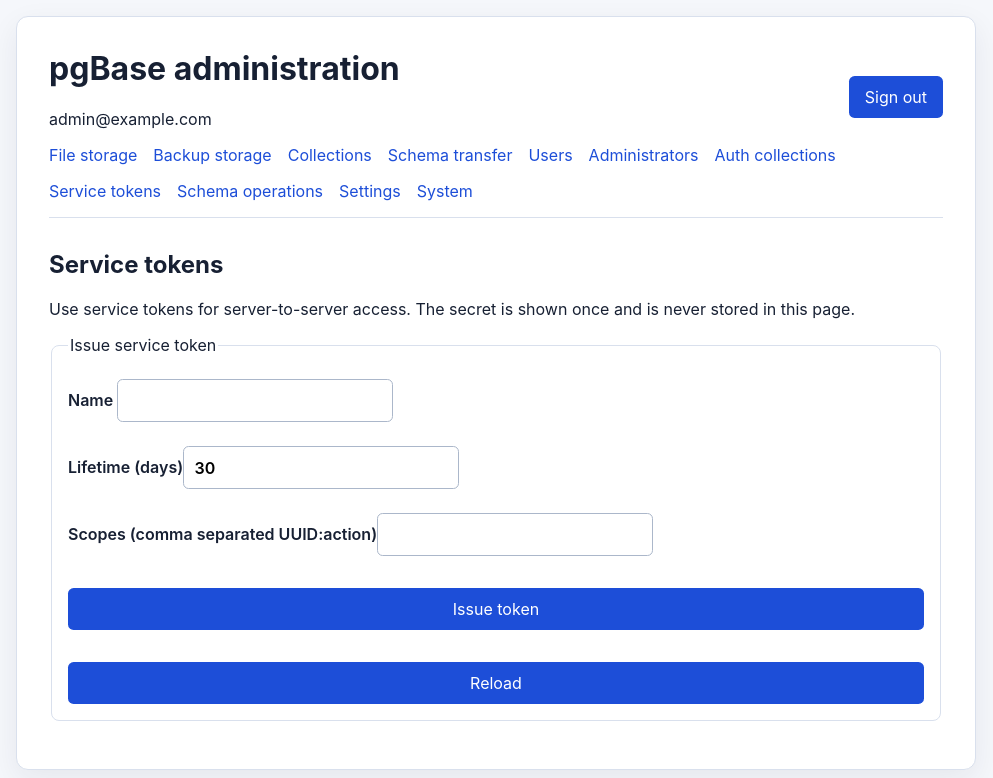
Test case: service tokens page › keeps the form usable after an invalid scope
The image size is (993, 778).
Type "exporter" into the field labelled "Name" at [255, 401], box [117,379,393,422]
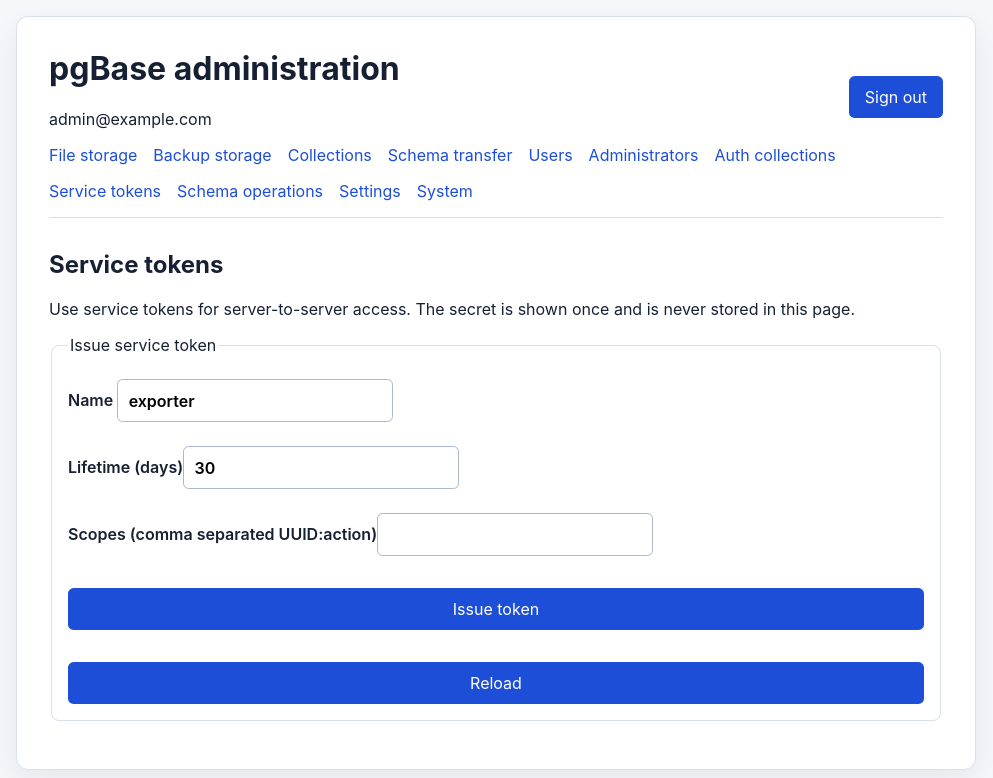
Type "bad:read" into the field labelled "Scopes (comma separated UUID:action)" at [515, 534], box [377,513,653,556]
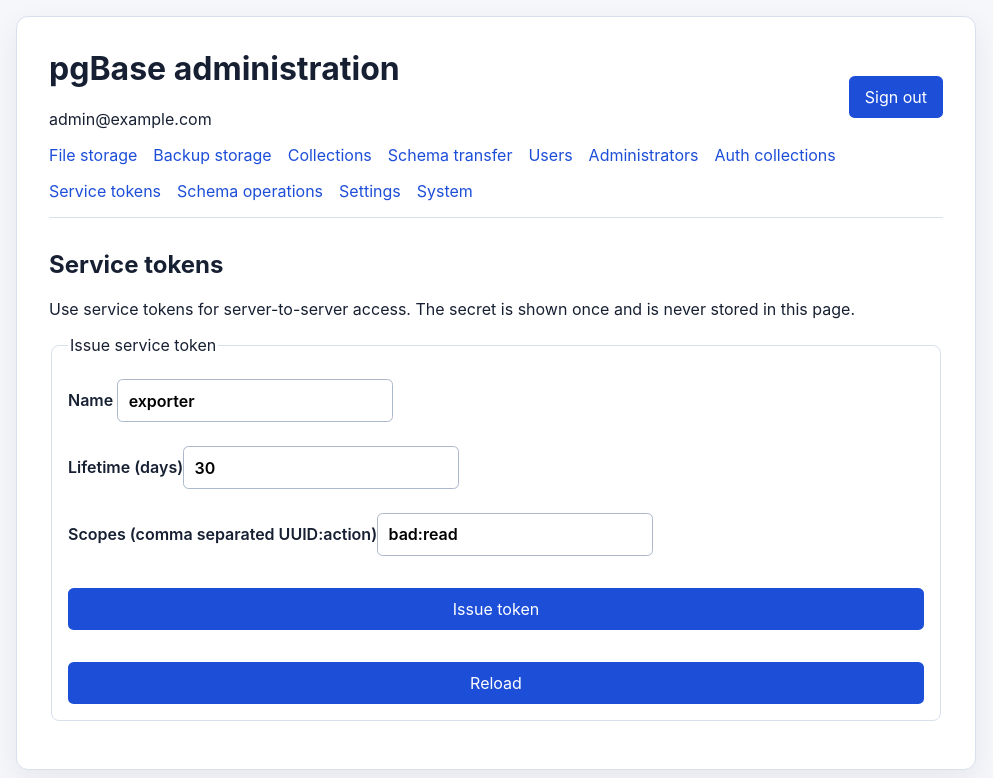
Click the button "Issue token" at [496, 609], box [68,588,924,630]
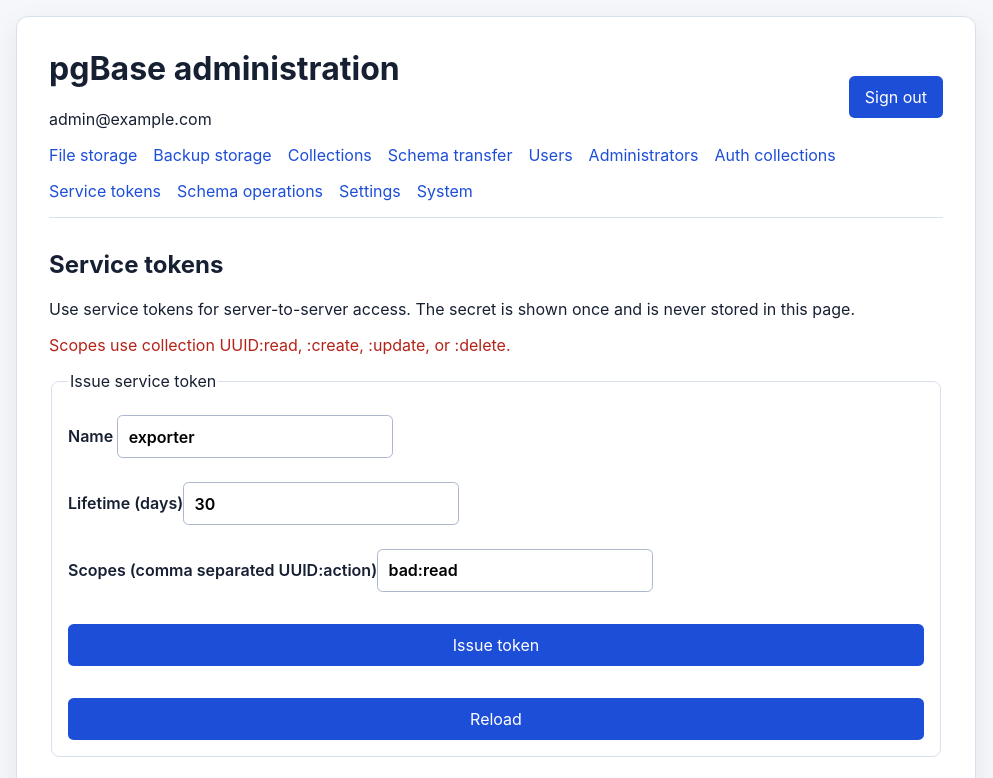
Expected: the button "Issue token" is enabled, [68,624,924,666]
Result: the message shows "Scopes use" at [49,335,510,355]
